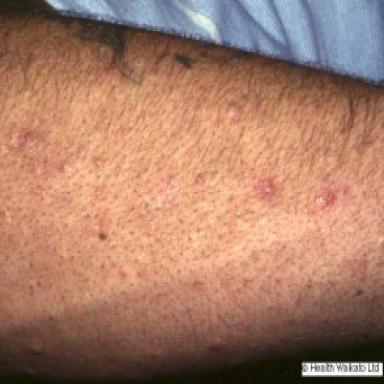acne: (14, 128, 47, 152), (315, 184, 339, 208), (256, 178, 275, 198), (227, 100, 244, 120), (90, 156, 107, 169), (193, 173, 205, 185)
